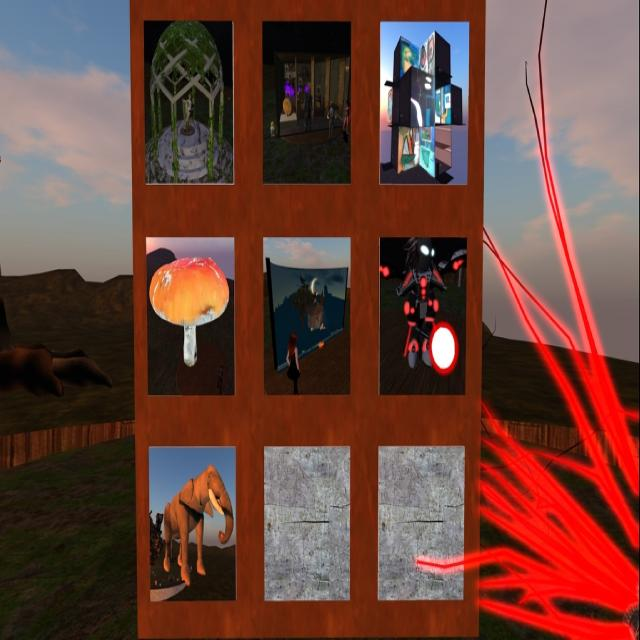elephant: (156, 470, 236, 584)
